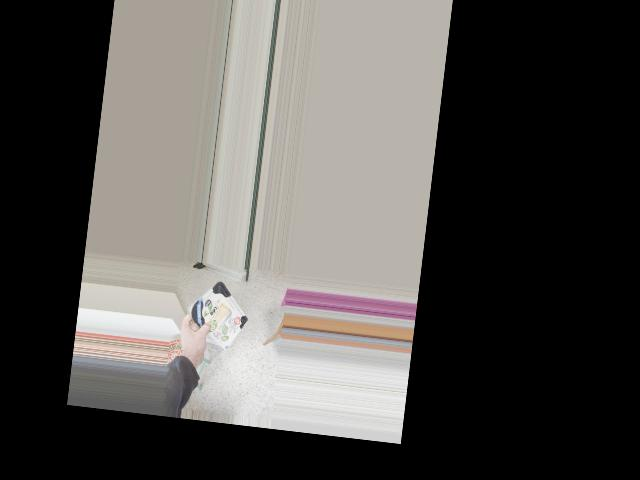cheese: (172, 285, 254, 342)
